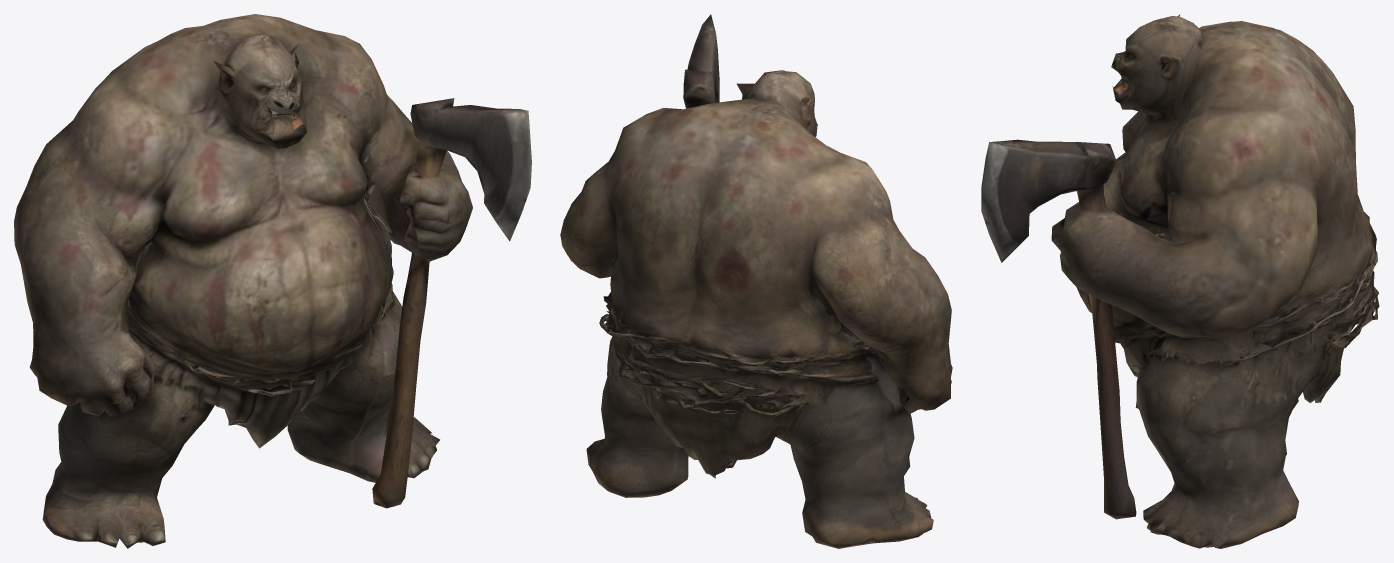
File: ogre.glb
3 views of the same model, side by side, from view 1: azimuth 30°, elevation 25°; view 2: azimuth 150°, elevation 25°; view 3: azimuth 270°, elevation 25° (orthographic). The views are drawn at different scales.
Bounding box in the file's own units: 1.86 × 1.99 × 1.61.
1 material, 1 textured.
